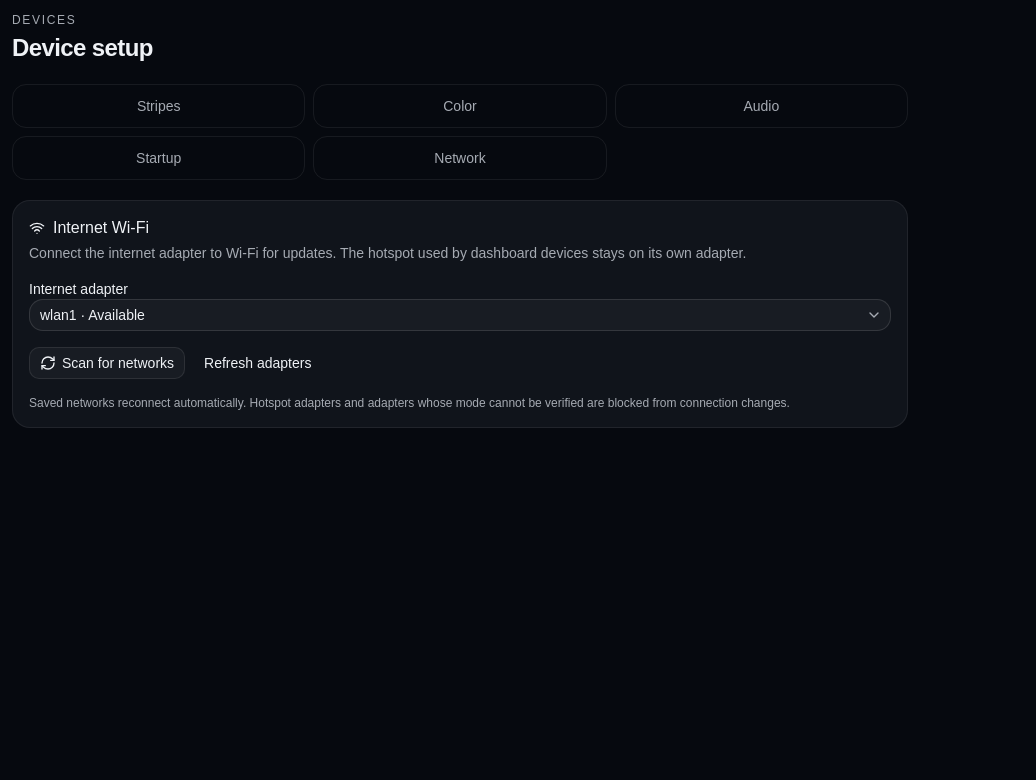
Test: NetworkSetupPage › clears networks and credentials when refresh moves to another adapter
Expected: the dropdown named "Internet adapter" is shown, [29, 299, 891, 331]
Click the button "Scan for networks" at (107, 363), box [29, 347, 185, 379]
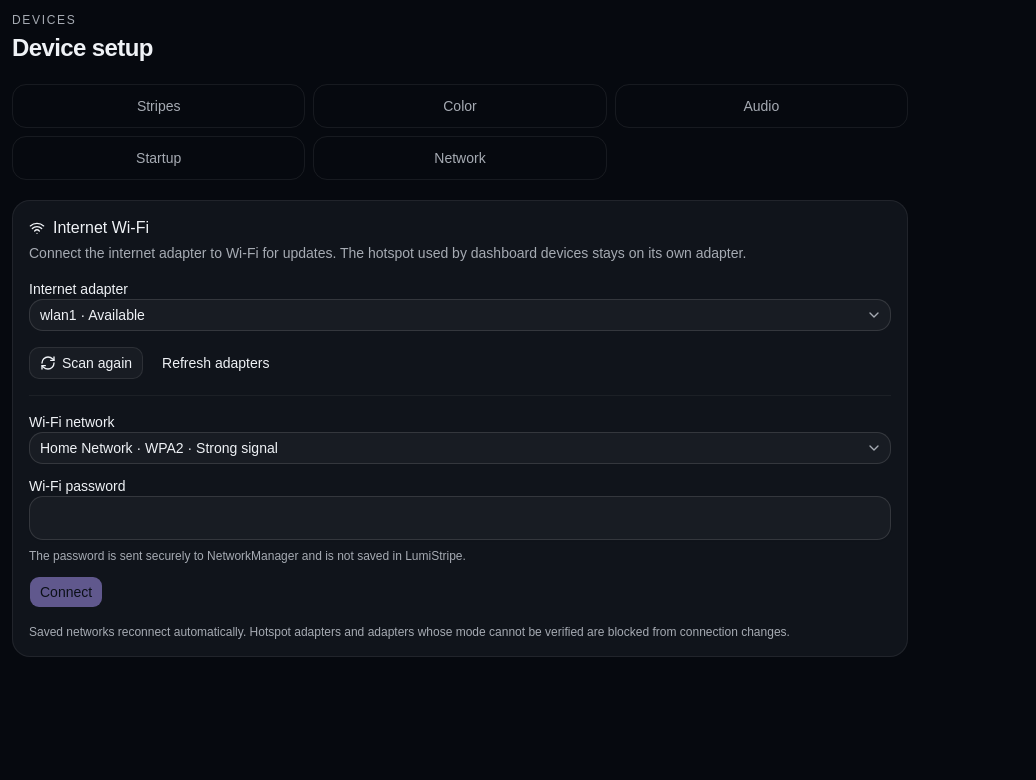
Click the dropdown named "Wi-Fi network" at (159, 448), box [29, 432, 891, 464]
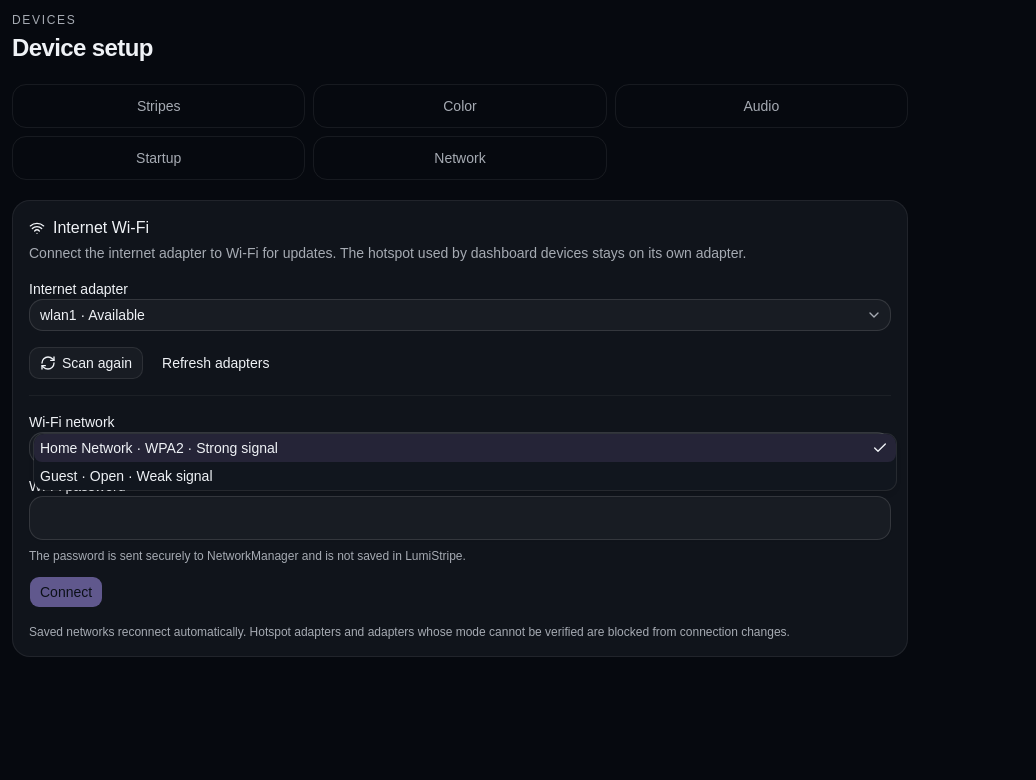
Click the option "Home Network · WPA2 · Strong signal" at (86, 448), box [34, 434, 896, 462]
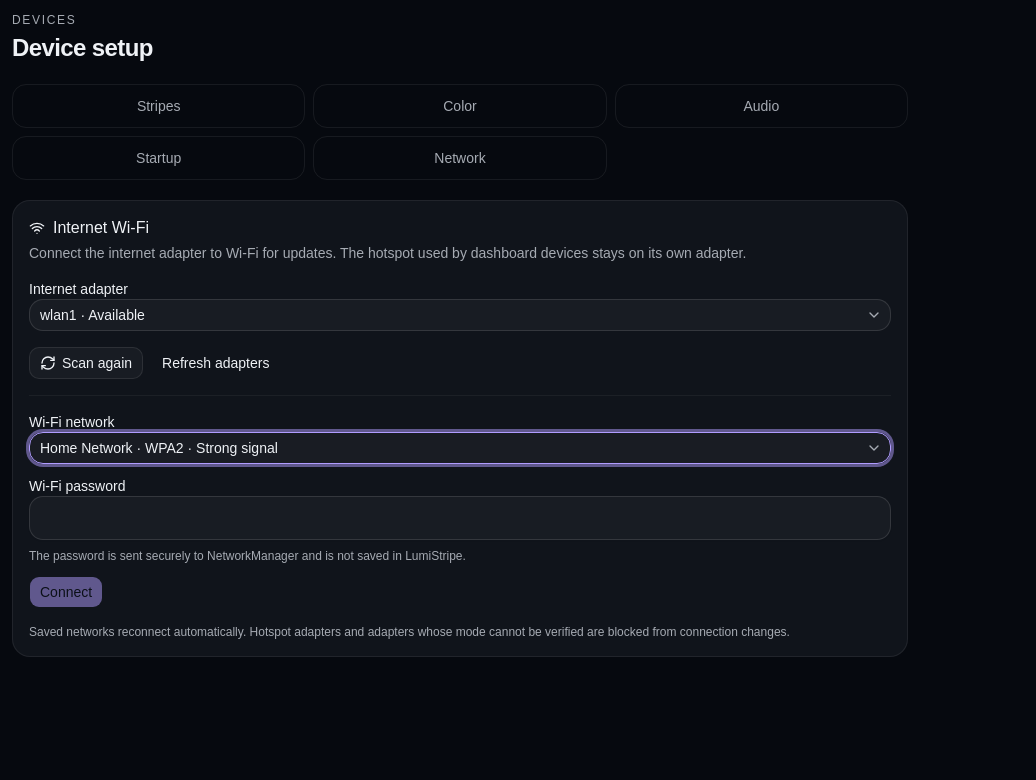
Type "private-password" into the password field labelled "Wi-Fi password" at (460, 518), box [29, 496, 891, 540]
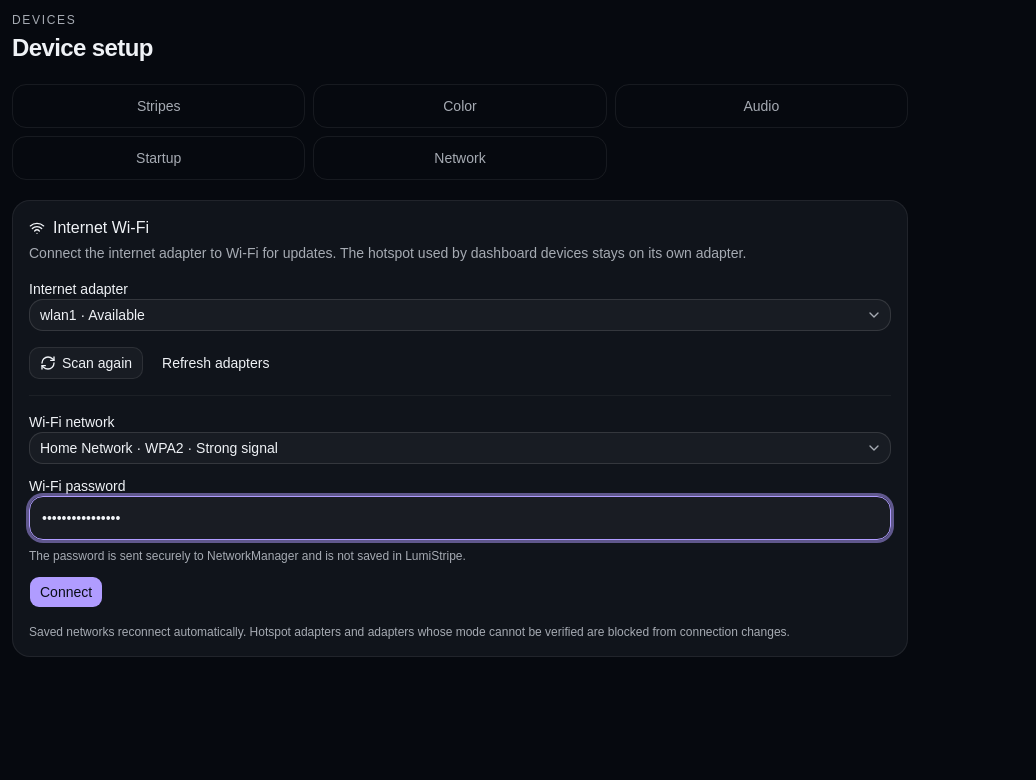
Click the button "Refresh adapters" at (216, 363), box [151, 347, 280, 379]
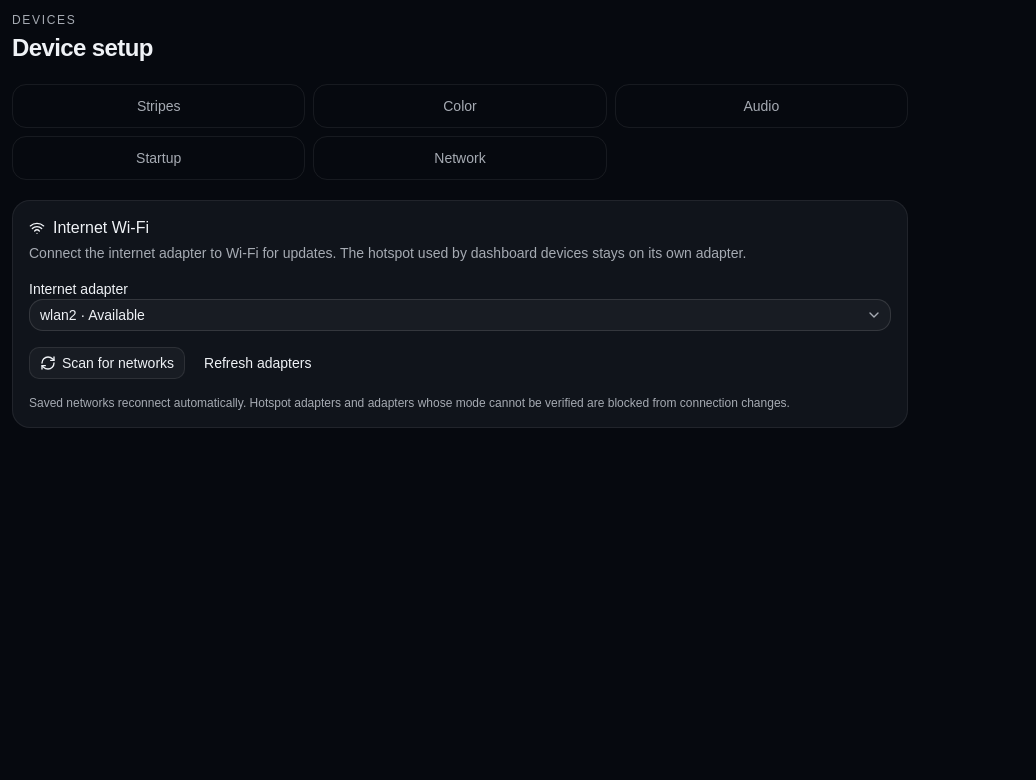
Now the dropdown named "Internet adapter" shows "wlan2", box [29, 299, 891, 331]
Now the label "Wi-Fi network" is gone
Now the label labelled "Wi-Fi password" is gone
